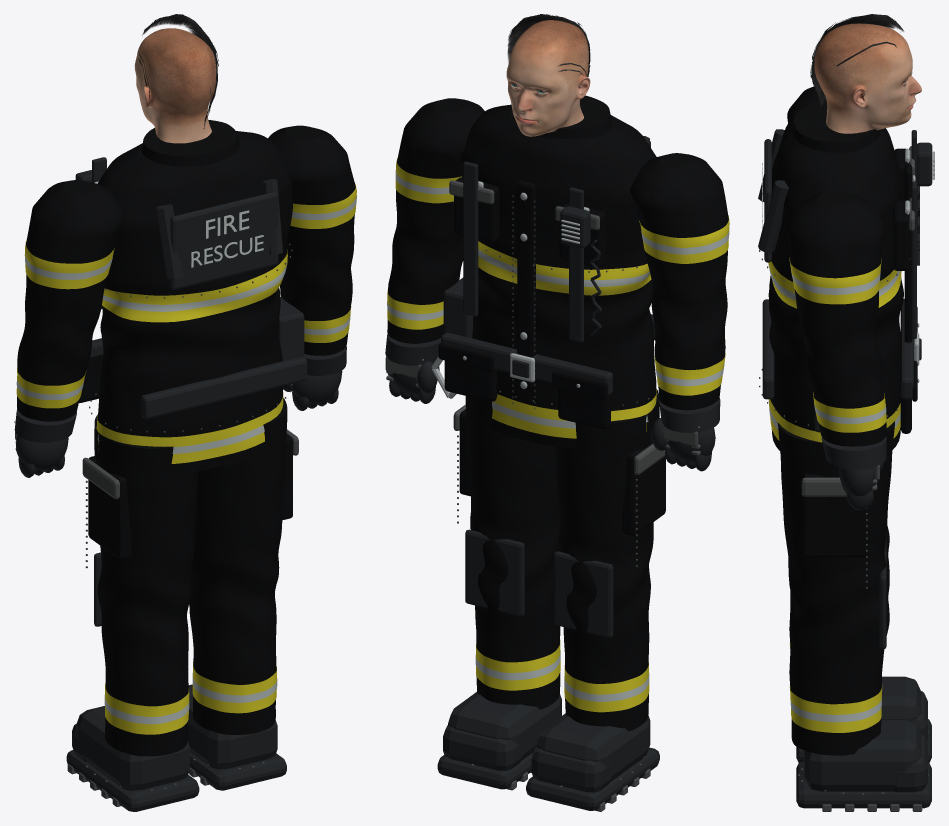
Rendered from firefighter.glb.
3 renders of one model, left to right at view 1: azimuth 30°, elevation 25°; view 2: azimuth 150°, elevation 25°; view 3: azimuth 270°, elevation 25°, orthographic.
Parts seen in each view (by area): view 1: Body_Charcoal_turnout_fabric, LeftLeg_Charcoal_turnout_fabric, RightLeg_Charcoal_turnout_fabric, Body_Black_gloves_boots_and_harness, LeftArm_Charcoal_turnout_fabric, RightArm_Charcoal_turnout_fabric, Anatomical head and neck, LeftLeg_Black_gloves_boots_and_harness, Body_Safety_yellow, RightLeg_Black_gloves_boots_and_harness, Body_Silver_reflective_tape, LeftArm_Safety_yellow (+11 smaller); view 2: Body_Charcoal_turnout_fabric, LeftLeg_Charcoal_turnout_fabric, RightLeg_Charcoal_turnout_fabric, LeftArm_Charcoal_turnout_fabric, RightArm_Charcoal_turnout_fabric, LeftLeg_Black_gloves_boots_and_harness, RightLeg_Black_gloves_boots_and_harness, Body_Black_gloves_boots_and_harness, Anatomical head and neck, Body_Safety_yellow, LeftArm_Safety_yellow, LeftArm_Black_gloves_boots_and_harness (+13 smaller); view 3: RightLeg_Charcoal_turnout_fabric, Body_Charcoal_turnout_fabric, RightArm_Charcoal_turnout_fabric, RightLeg_Black_gloves_boots_and_harness, Anatomical head and neck, Body_Black_gloves_boots_and_harness, RightArm_Safety_yellow, RightArm_Black_gloves_boots_and_harness, LeftLeg_Black_gloves_boots_and_harness, RightLeg_Safety_yellow, Body_Safety_yellow, RightLeg_Stitched_edges (+6 smaller).
Part boxes in pixels (x1,y1,x2,y2): Body_Charcoal_turnout_fabric: (79, 120, 292, 474); LeftLeg_Charcoal_turnout_fabric: (88, 414, 197, 756); RightLeg_Charcoal_turnout_fabric: (189, 398, 292, 734); Body_Black_gloves_boots_and_harness: (75, 157, 307, 419); LeftArm_Charcoal_turnout_fabric: (17, 180, 124, 421); RightArm_Charcoal_turnout_fabric: (268, 125, 355, 355); Anatomical head and neck: (135, 28, 216, 143); LeftLeg_Black_gloves_boots_and_harness: (66, 552, 199, 811); Body_Safety_yellow: (96, 249, 287, 463); RightLeg_Black_gloves_boots_and_harness: (188, 684, 286, 790); Body_Silver_reflective_tape: (97, 210, 287, 453); LeftArm_Safety_yellow: (16, 241, 114, 408); Body_Charcoal_turnout_fabric: (438, 95, 656, 448); LeftLeg_Charcoal_turnout_fabric: (555, 389, 665, 731); RightLeg_Charcoal_turnout_fabric: (459, 396, 560, 709); LeftArm_Charcoal_turnout_fabric: (630, 153, 728, 410); RightArm_Charcoal_turnout_fabric: (387, 98, 484, 343); LeftLeg_Black_gloves_boots_and_harness: (526, 551, 659, 810); RightLeg_Black_gloves_boots_and_harness: (437, 529, 561, 789); Body_Black_gloves_boots_and_harness: (441, 136, 655, 395); Anatomical head and neck: (506, 20, 590, 136); Body_Safety_yellow: (478, 241, 656, 438); LeftArm_Safety_yellow: (639, 215, 729, 395); LeftArm_Black_gloves_boots_and_harness: (651, 398, 720, 471); RightLeg_Charcoal_turnout_fabric: (777, 421, 894, 755); Body_Charcoal_turnout_fabric: (768, 101, 917, 472); RightArm_Charcoal_turnout_fabric: (787, 192, 886, 446); RightLeg_Black_gloves_boots_and_harness: (796, 550, 931, 808); Anatomical head and neck: (814, 23, 921, 133); Body_Black_gloves_boots_and_harness: (758, 129, 932, 432); RightArm_Safety_yellow: (789, 257, 886, 432); RightArm_Black_gloves_boots_and_harness: (821, 437, 886, 509); LeftLeg_Black_gloves_boots_and_harness: (796, 534, 931, 762); RightLeg_Safety_yellow: (789, 684, 882, 732); Body_Safety_yellow: (768, 261, 901, 442); RightLeg_Stitched_edges: (797, 477, 928, 811).
Bounding box in the file's own units: 0.8346 × 1.84 × 0.3907.
10 materials, 5 textured.
